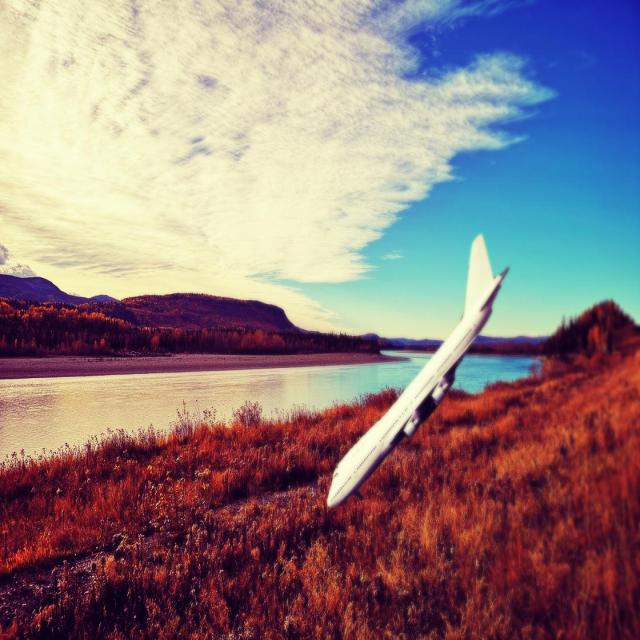airplane: (326, 232, 509, 509)
